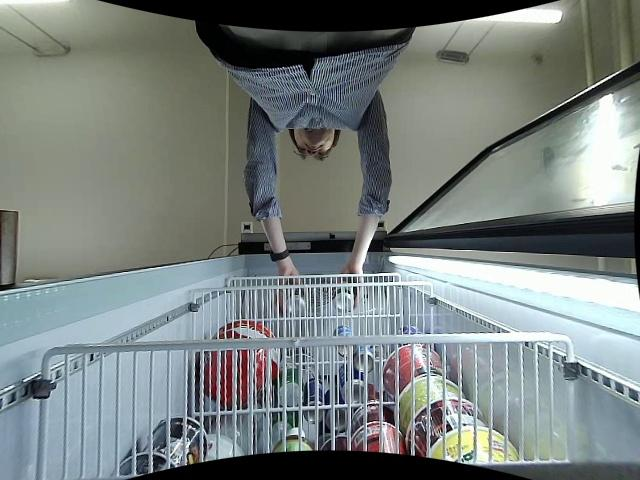00_hand: (275, 266, 305, 317), (333, 268, 365, 310)
